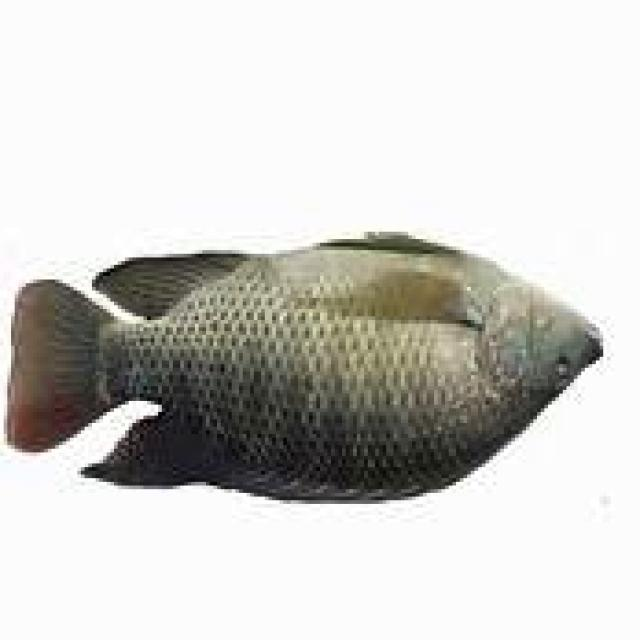Tilapia: (5, 228, 607, 504)
